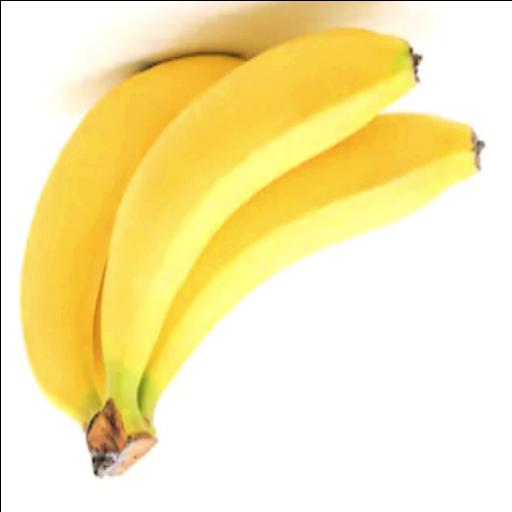banana: (101, 29, 419, 433), (138, 114, 483, 419), (20, 54, 241, 427), (92, 273, 104, 402)
